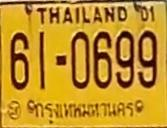0: (70, 31, 89, 88)
1: (38, 31, 46, 91)
6: (93, 31, 112, 88), (10, 32, 28, 89)
9: (115, 30, 134, 87), (137, 30, 156, 86)
BKK: (31, 97, 135, 126)
